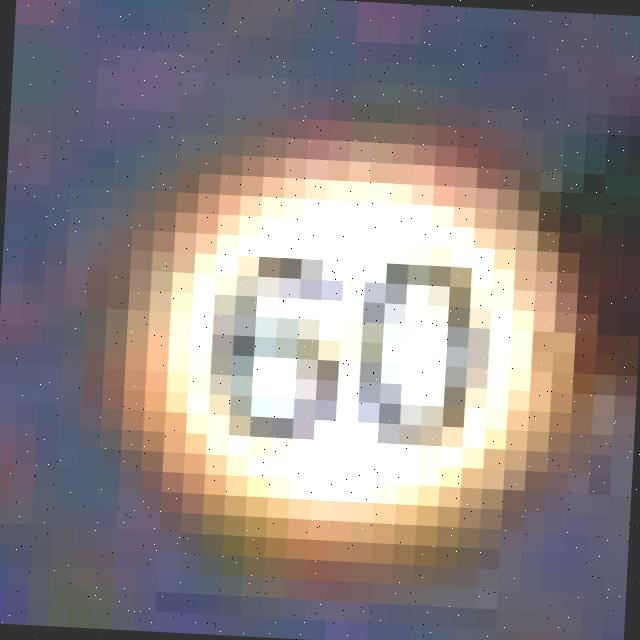Ograniczenie predkosci do 60: (74, 108, 565, 552)
